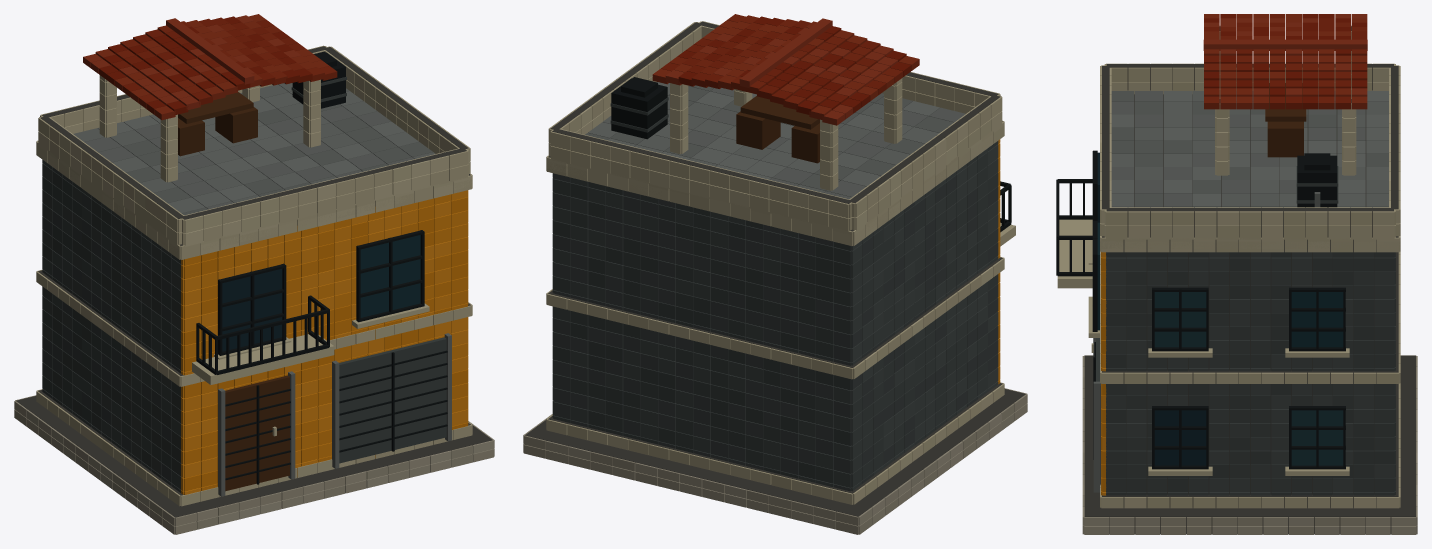
The model's file is SM_Mapa_053.fbx.
3 views of the same model, side by side, from view 1: azimuth 30°, elevation 25°; view 2: azimuth 150°, elevation 25°; view 3: azimuth 270°, elevation 25° (orthographic). The views are drawn at different scales.
Visible parts, largest first — view 1: SM_Mapa_053; view 2: SM_Mapa_053; view 3: SM_Mapa_053.
Boxes of the visible parts, x1,y1,x2,y2 form: SM_Mapa_053: (14, 14, 494, 534); SM_Mapa_053: (523, 14, 1027, 534); SM_Mapa_053: (1056, 14, 1417, 534).
Size of the model in its own units: 8 by 7.53 by 9.15.
